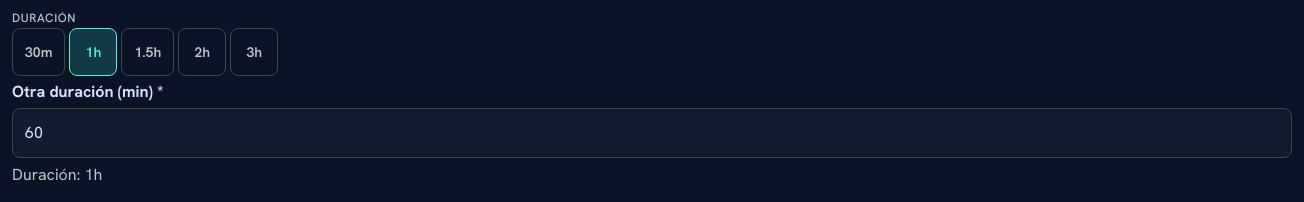
Test case: DurationField › selects a preset, reflecting it in both the free-form field and the caption
The image size is (1304, 202).
Click the button "3h" at x=254, y=52, box left=230, top=28, right=278, bottom=76
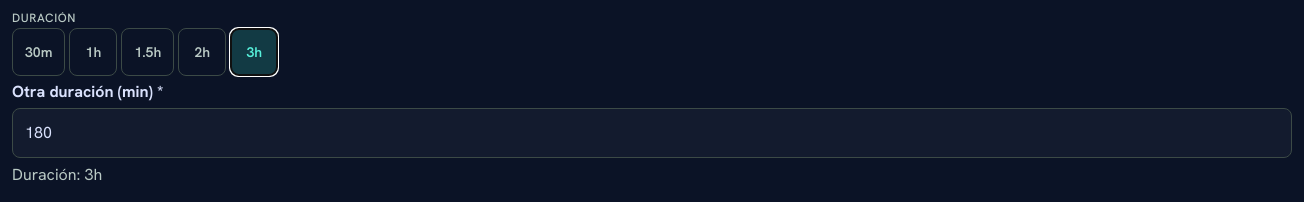
Expected: the number field labelled "Otra duración (min) *" holds "180", left=12, top=108, right=1292, bottom=158
Expected: the text "Duración: 3h" is shown, left=12, top=164, right=102, bottom=185
